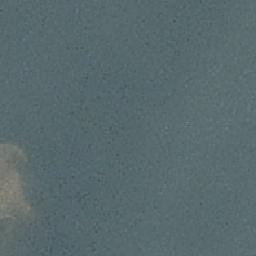debris: (1, 146, 27, 214)
